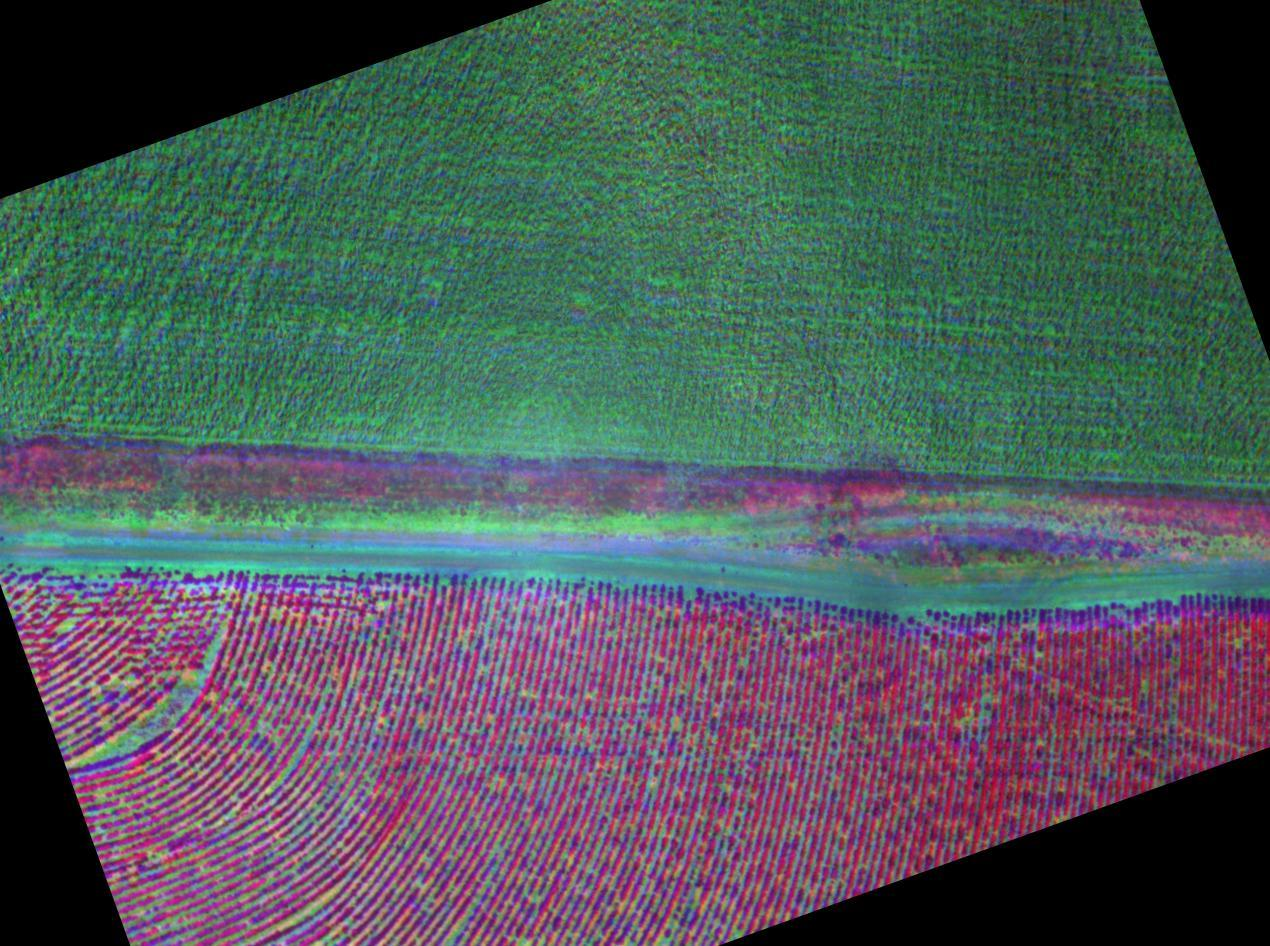dc: (73, 620, 226, 779), (166, 870, 350, 946), (271, 673, 381, 790), (488, 870, 585, 946)
